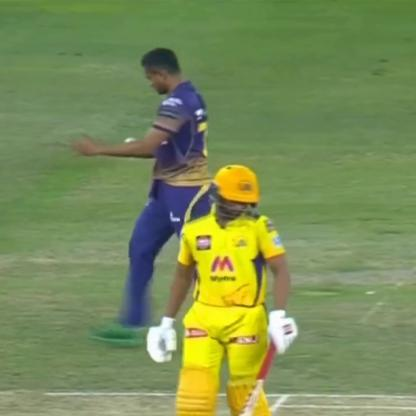ball: (119, 133, 142, 149)
